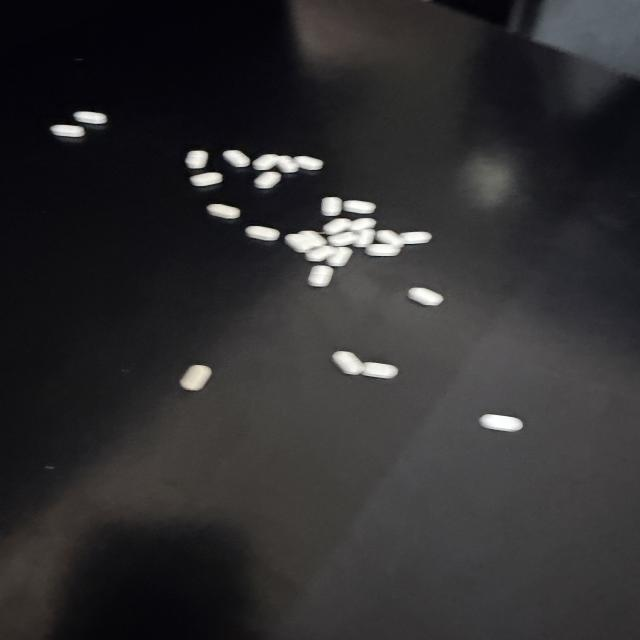pill: (180, 365, 211, 390), (332, 351, 363, 375), (479, 415, 523, 431), (408, 288, 443, 305), (285, 234, 315, 252), (362, 363, 398, 378), (308, 266, 333, 287), (207, 204, 240, 219), (245, 226, 280, 240), (327, 247, 352, 266), (306, 246, 335, 262), (223, 150, 250, 167), (252, 154, 279, 171), (299, 231, 326, 248), (323, 218, 351, 234), (190, 172, 222, 186), (376, 230, 404, 246), (343, 200, 375, 214), (73, 111, 107, 124), (185, 150, 208, 169), (328, 232, 359, 246), (365, 244, 401, 256), (254, 172, 281, 188), (50, 125, 85, 137), (294, 156, 323, 170), (321, 197, 342, 216), (354, 229, 375, 247), (277, 156, 299, 173), (400, 232, 431, 244), (351, 218, 376, 231)
